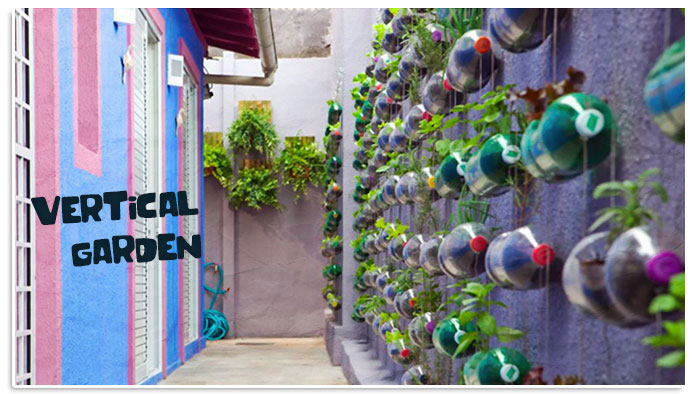plastic_bottle: (558, 227, 690, 335), (519, 93, 622, 185), (460, 346, 529, 386)
